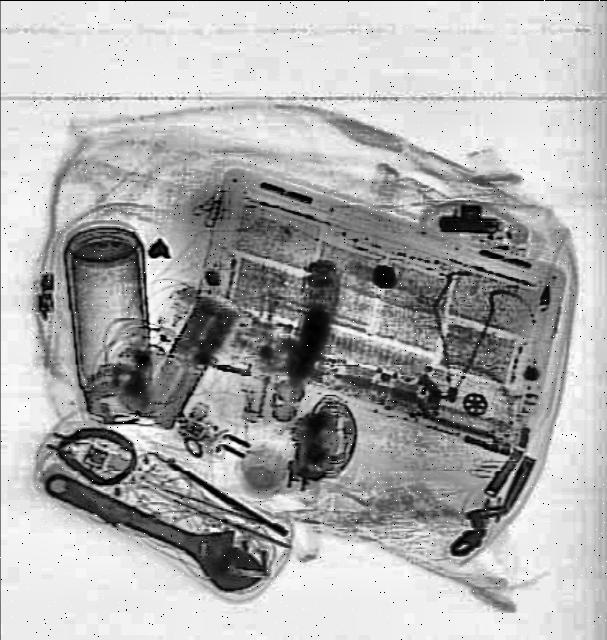Wrench: (36, 447, 280, 601)
